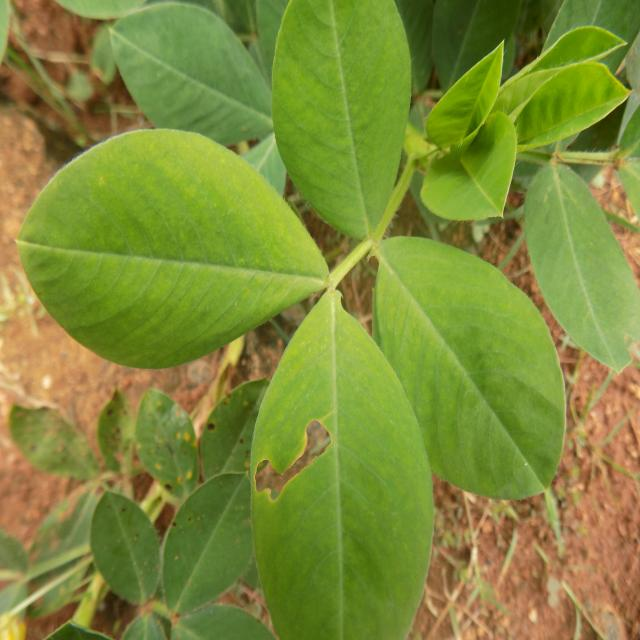Ground nut_healthy: (15, 121, 327, 361), (252, 275, 438, 640), (349, 234, 574, 504), (268, 0, 410, 239), (521, 158, 638, 369), (89, 484, 152, 602)
Ground nut_tikka leaf spot: (132, 383, 199, 491)
